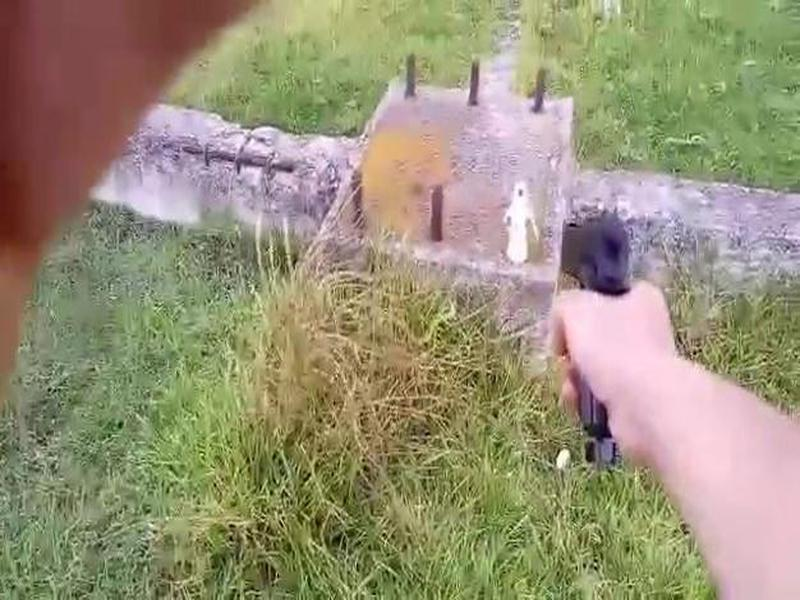Pistola: (534, 201, 648, 472)
